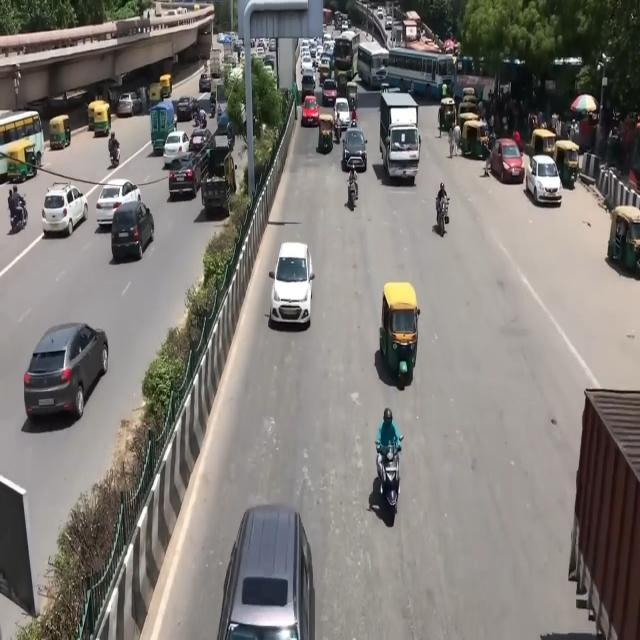auto: (380, 281, 420, 381), (607, 206, 639, 275), (88, 100, 111, 137), (49, 114, 72, 150), (318, 112, 336, 154), (149, 82, 164, 107), (159, 74, 172, 100)
bike-auto: (375, 434, 403, 509), (376, 409, 402, 464), (8, 186, 26, 232), (436, 182, 450, 229), (483, 136, 494, 175), (108, 132, 120, 166), (348, 167, 358, 206), (194, 108, 207, 129), (333, 119, 341, 144)
